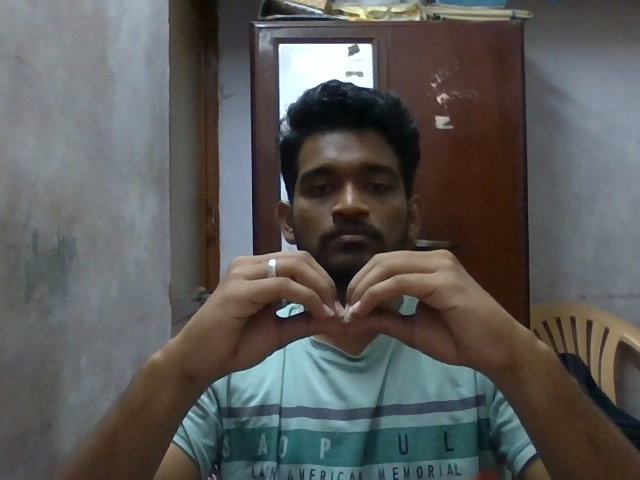B: (155, 242, 544, 393)
